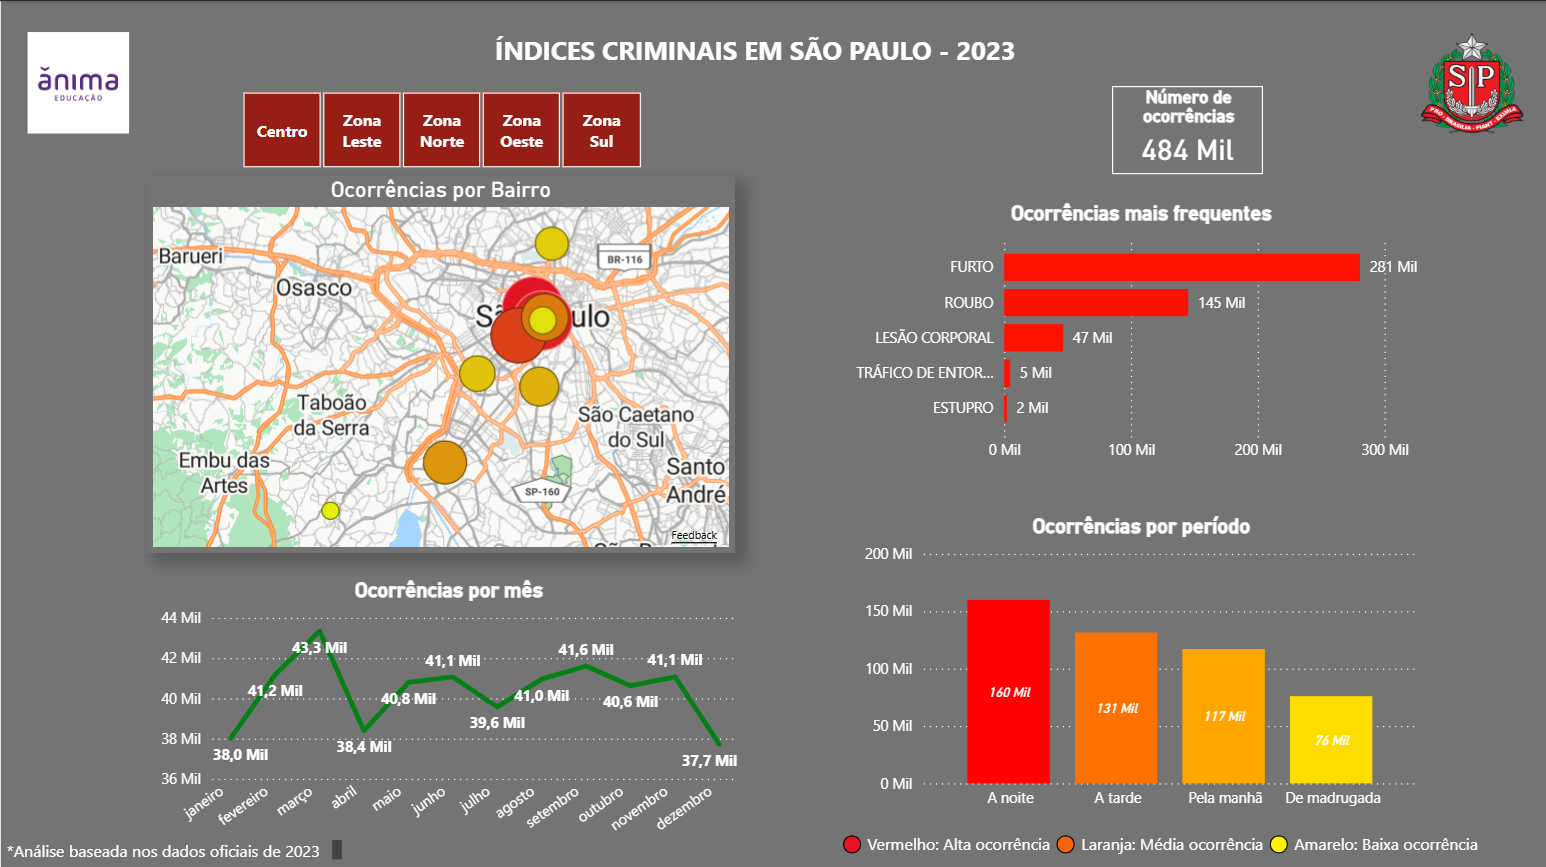

What the dashboard file says about the page in this screenshot:
{"tool":"powerbi","page":{"name":"Página 1","canvas":[1280,720],"ordinal":0},"visuals":[{"type":"azureMap","title":"Ocorrências por Bairro","fields":{"Category":["2023.LocalizacaoCompleta"],"Size":["2023.TotalOcorrenciasPorBairro"]},"box":[120.9,144.7,486.7,311.8],"z":0},{"type":"columnChart","title":"Ocorrências por período","fields":{"Y":["CountNonNull(2023.NATUREZA_APURADA)"],"Category":["2023.PERIODO"]},"box":[709.4,424.7,469.2,252.9],"z":1000},{"type":"lineChart","title":"Ocorrências por mês","fields":{"Category":["2023.DATA_OCORRENCIA_BO.Variation.Hierarquia de datas.Mês"],"Y":["CountNonNull(2023.NATUREZA_APURADA)"]},"box":[127.2,477.2,486.7,232.2],"z":2000},{"type":"clusteredBarChart","title":"Ocorrências mais frequentes","fields":{"Y":["2023.TotalOcorrenciasPorBairro"],"Category":["2023.Ocorrencia simplificada"]},"box":[690.3,165.4,507.4,224.3],"z":3000},{"type":"image","box":[0,20.7,127.2,93.8],"z":4000},{"type":"actionButton","box":[1175,26.2,84.5,83.3],"z":5000},{"type":"slicer","fields":{"Values":["Bairro-zona.ZONA"]},"box":[175,68.4,378.6,76.3],"z":6000},{"type":"textbox","box":[404,20.7,470.8,47.7],"z":7000},{"type":"card","title":"Número de ocorrências","fields":{"Values":["2023.Qtd_ocorrencias"]},"box":[919.1,70.2,125,72.6],"z":8000},{"type":"textbox","box":[0,689.3,286.9,26.2],"z":9000},{"type":"textbox","box":[690.5,683.3,582.1,36.9],"z":10000}]}

Visuals, with their boxes in screenshot pixels (x1, y1, x2, y2), scaled from the page's 1280x720 canvas onto the 1546x867 screenshot:
"Ocorrências por Bairro" azureMap: box(146, 174, 734, 550)
"Ocorrências por período" columnChart: box(857, 511, 1424, 816)
"Ocorrências por mês" lineChart: box(154, 575, 741, 854)
"Ocorrências mais frequentes" clusteredBarChart: box(834, 199, 1447, 469)
image: box(0, 25, 154, 138)
actionButton: box(1419, 32, 1521, 132)
slicer - Bairro-zona.ZONA: box(211, 82, 669, 174)
textbox: box(488, 25, 1057, 82)
"Número de ocorrências" card: box(1110, 85, 1261, 172)
textbox: box(0, 830, 347, 862)
textbox: box(834, 823, 1537, 866)
